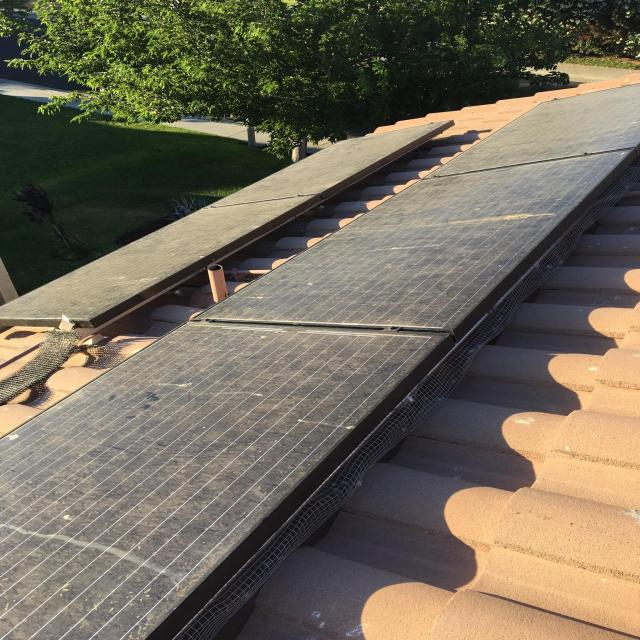dust-solar-panel: (0, 82, 640, 640), (0, 121, 454, 324)
